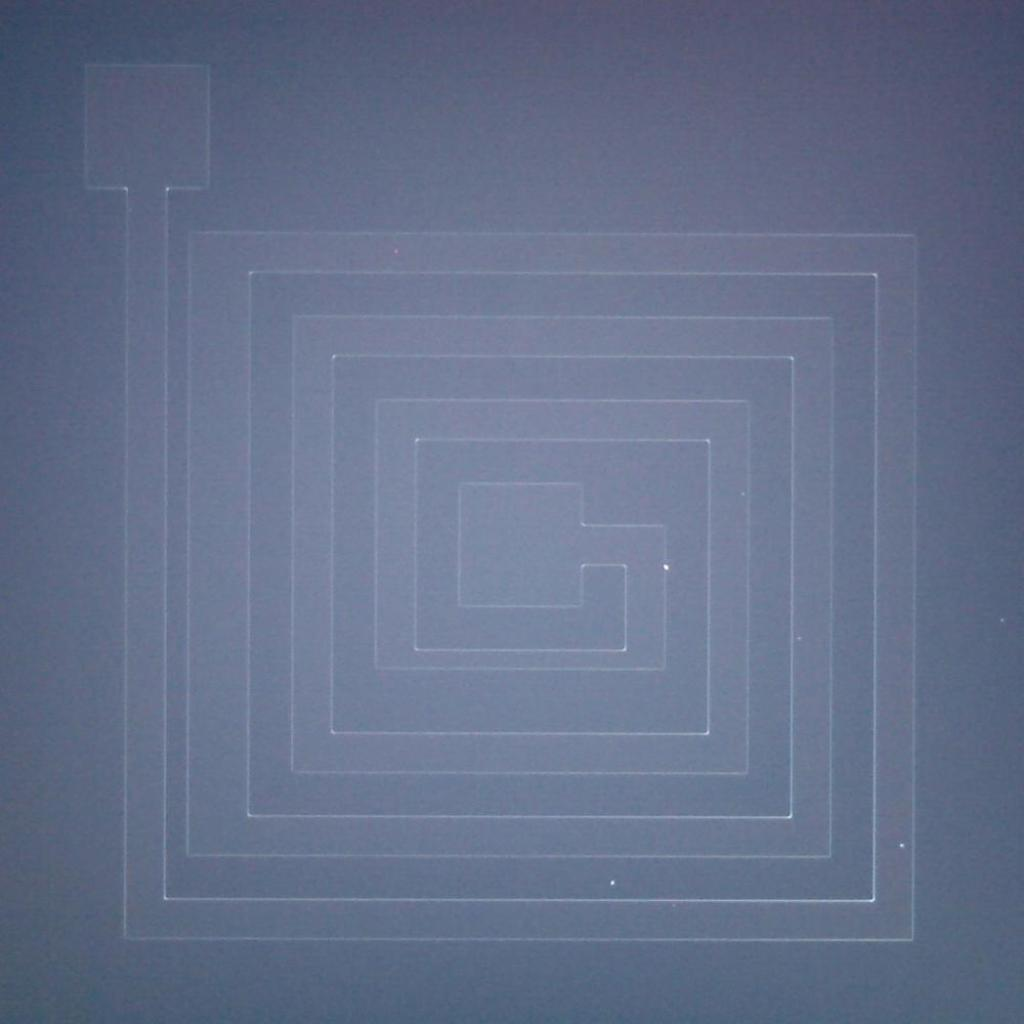dot: (610, 880, 616, 886), (663, 564, 669, 570), (900, 844, 904, 848), (1000, 617, 1003, 621)
